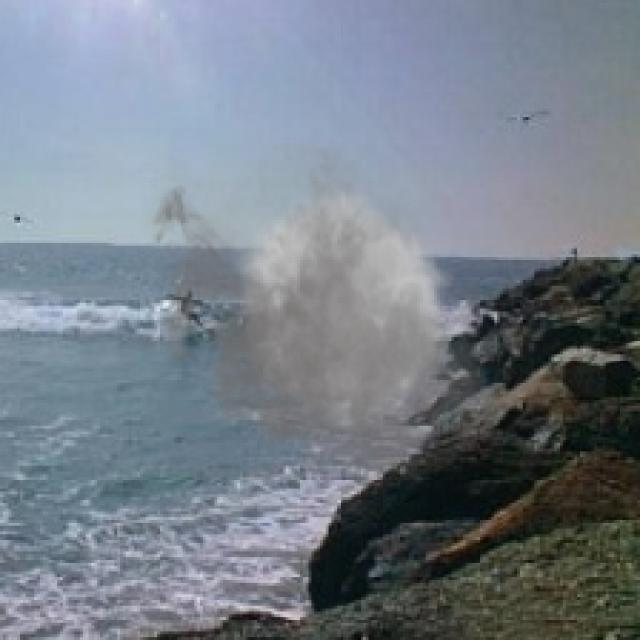smoke: (140, 123, 503, 500)
